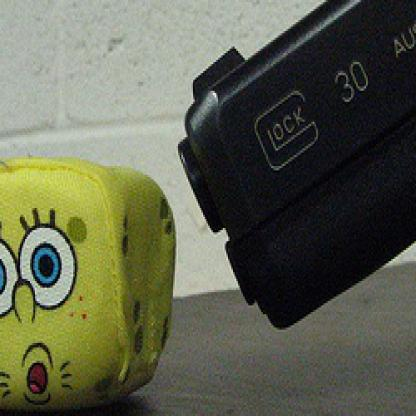gun: (176, 0, 414, 354)
